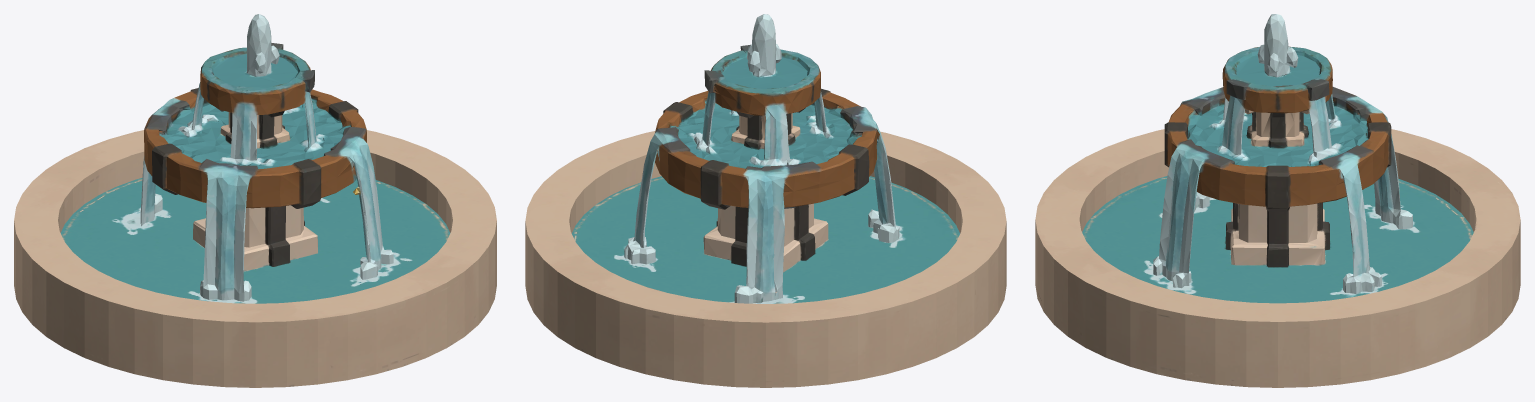
File: fountain.glb
The picture shows the model from 3 angles, left to right: view 1: azimuth 30°, elevation 25°; view 2: azimuth 150°, elevation 25°; view 3: azimuth 270°, elevation 25°; orthographic projection.
Visible parts, largest first — view 1: body, water; view 2: body, water; view 3: body, water.
Part boxes in pixels (<box>): body: <box>14,43,496,387</box>; water: <box>60,14,450,303</box>; body: <box>525,45,1006,387</box>; water: <box>572,14,959,303</box>; body: <box>1035,46,1520,387</box>; water: <box>1082,14,1473,303</box>.
Bounding box in the file's own units: 3 × 1.86 × 3.
Materials: 2 (2 with a texture image).
